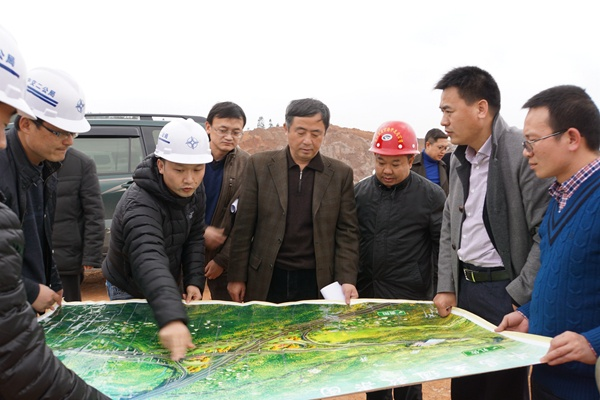none: (516, 78, 600, 180), (431, 61, 502, 146), (275, 92, 334, 165), (202, 100, 249, 155), (421, 127, 449, 163)
red: (365, 119, 425, 185)
white: (10, 68, 90, 163), (150, 117, 213, 200)
